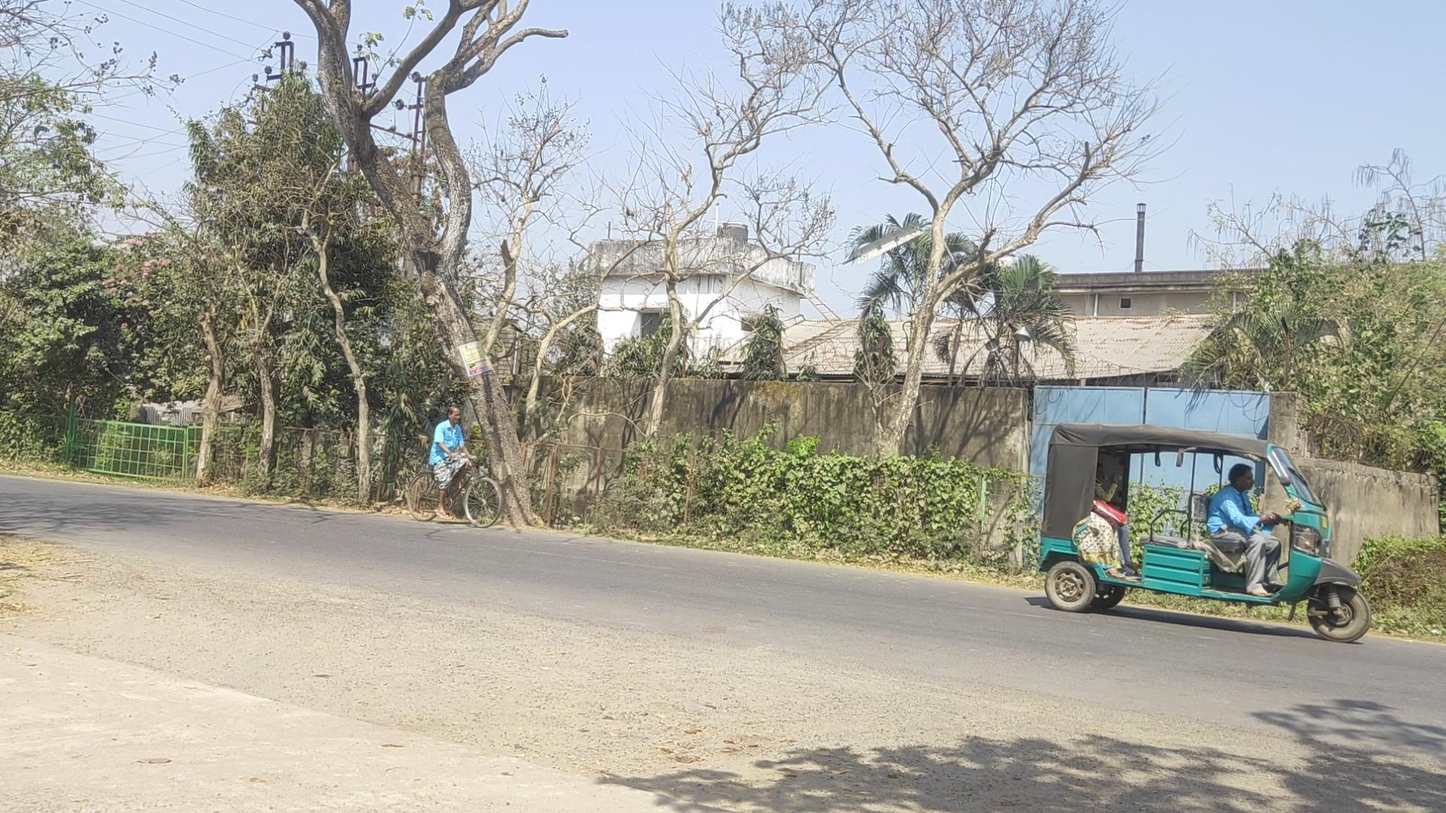Auto: (1036, 422, 1371, 643)
bike: (407, 406, 502, 528)
